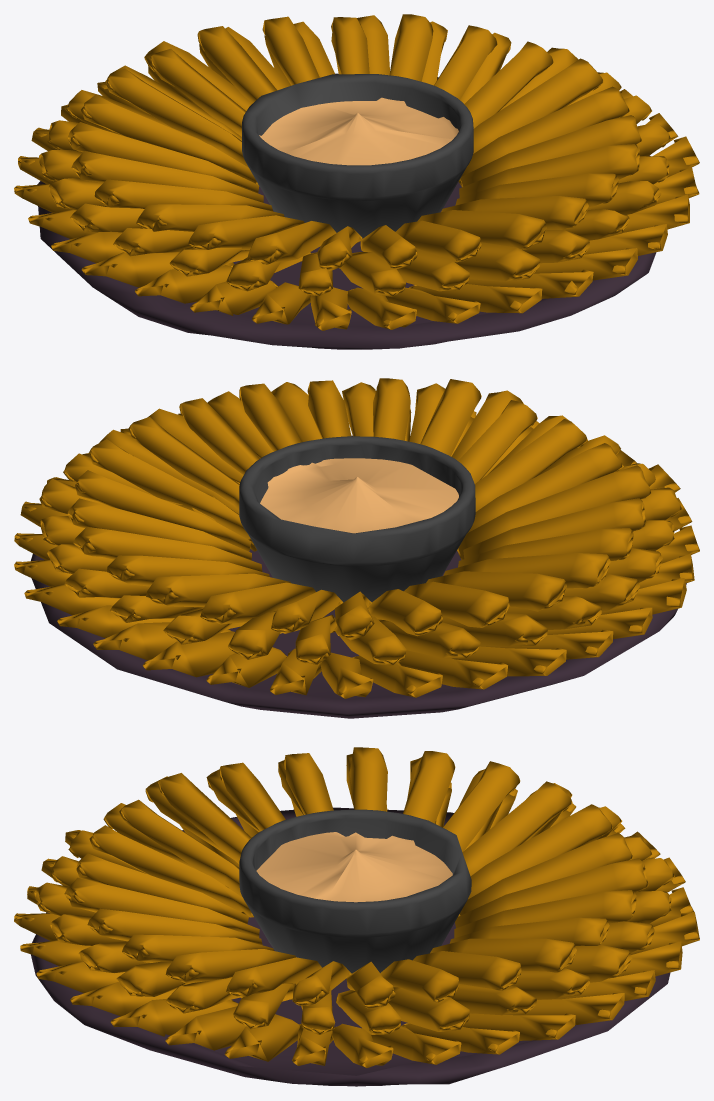
File: second.glb
3 views of the same model, one above another, from view 1: azimuth 30°, elevation 25°; view 2: azimuth 150°, elevation 25°; view 3: azimuth 270°, elevation 25° (orthographic).
Parts seen in each view (by area): view 1: fries; view 2: fries; view 3: fries.
Part boxes in pixels (box(x1,y1,x2,y2)): fries: box(14, 14, 699, 349); fries: box(14, 378, 699, 718); fries: box(14, 747, 699, 1086).
Size of what is drawn, in the model's own units: 1.04 by 0.2377 by 1.05.
